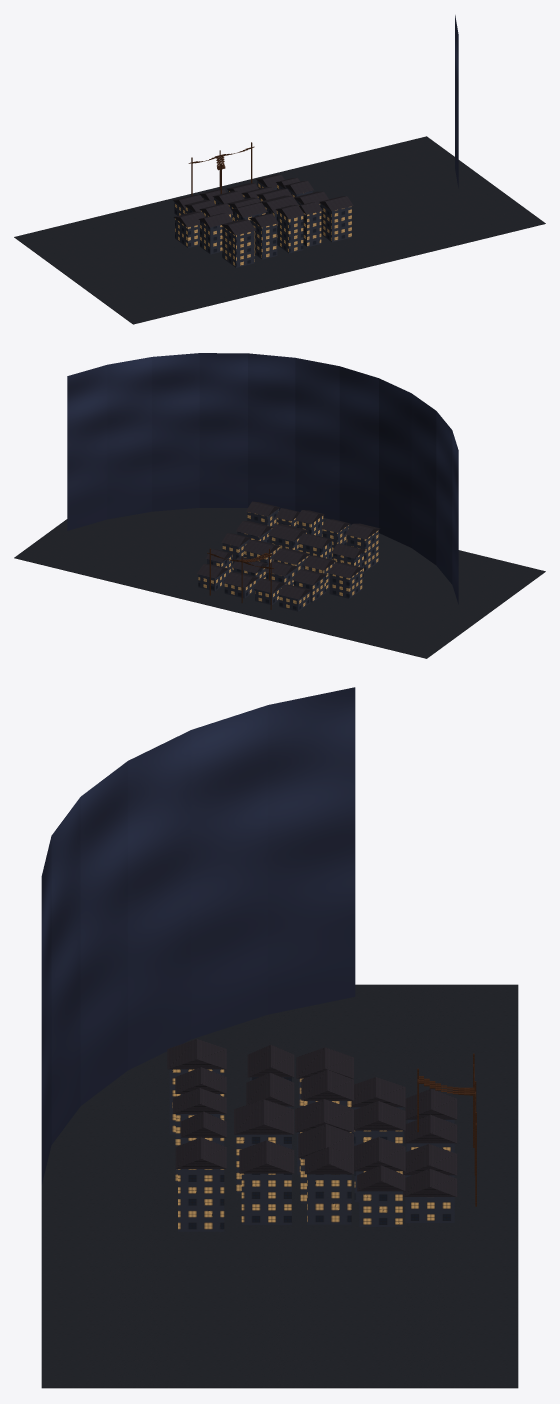
The model's file is SM_MenuTown.fbx.
The picture shows the model from 3 angles, top to bottom: view 1: azimuth 30°, elevation 25°; view 2: azimuth 150°, elevation 25°; view 3: azimuth 270°, elevation 25°; orthographic projection. The views are drawn at different scales.
Parts seen in each view (by area): view 1: Town; view 2: Town; view 3: Town.
Part boxes in pixels (<box>): Town: <box>14,15,545,324</box>; Town: <box>14,353,545,658</box>; Town: <box>41,687,518,1388</box>.
Bounding box in the file's own units: 120 × 45 × 60.
Materials: 5 (5 with a texture image).
